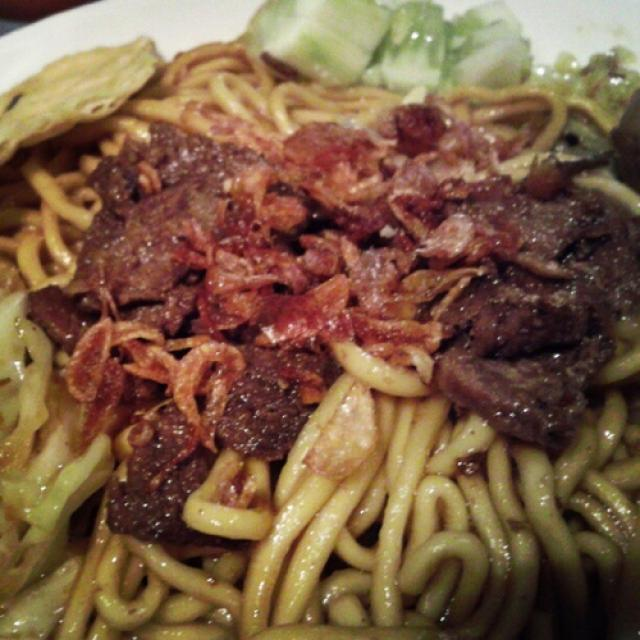面条主食: (16, 28, 610, 618)
